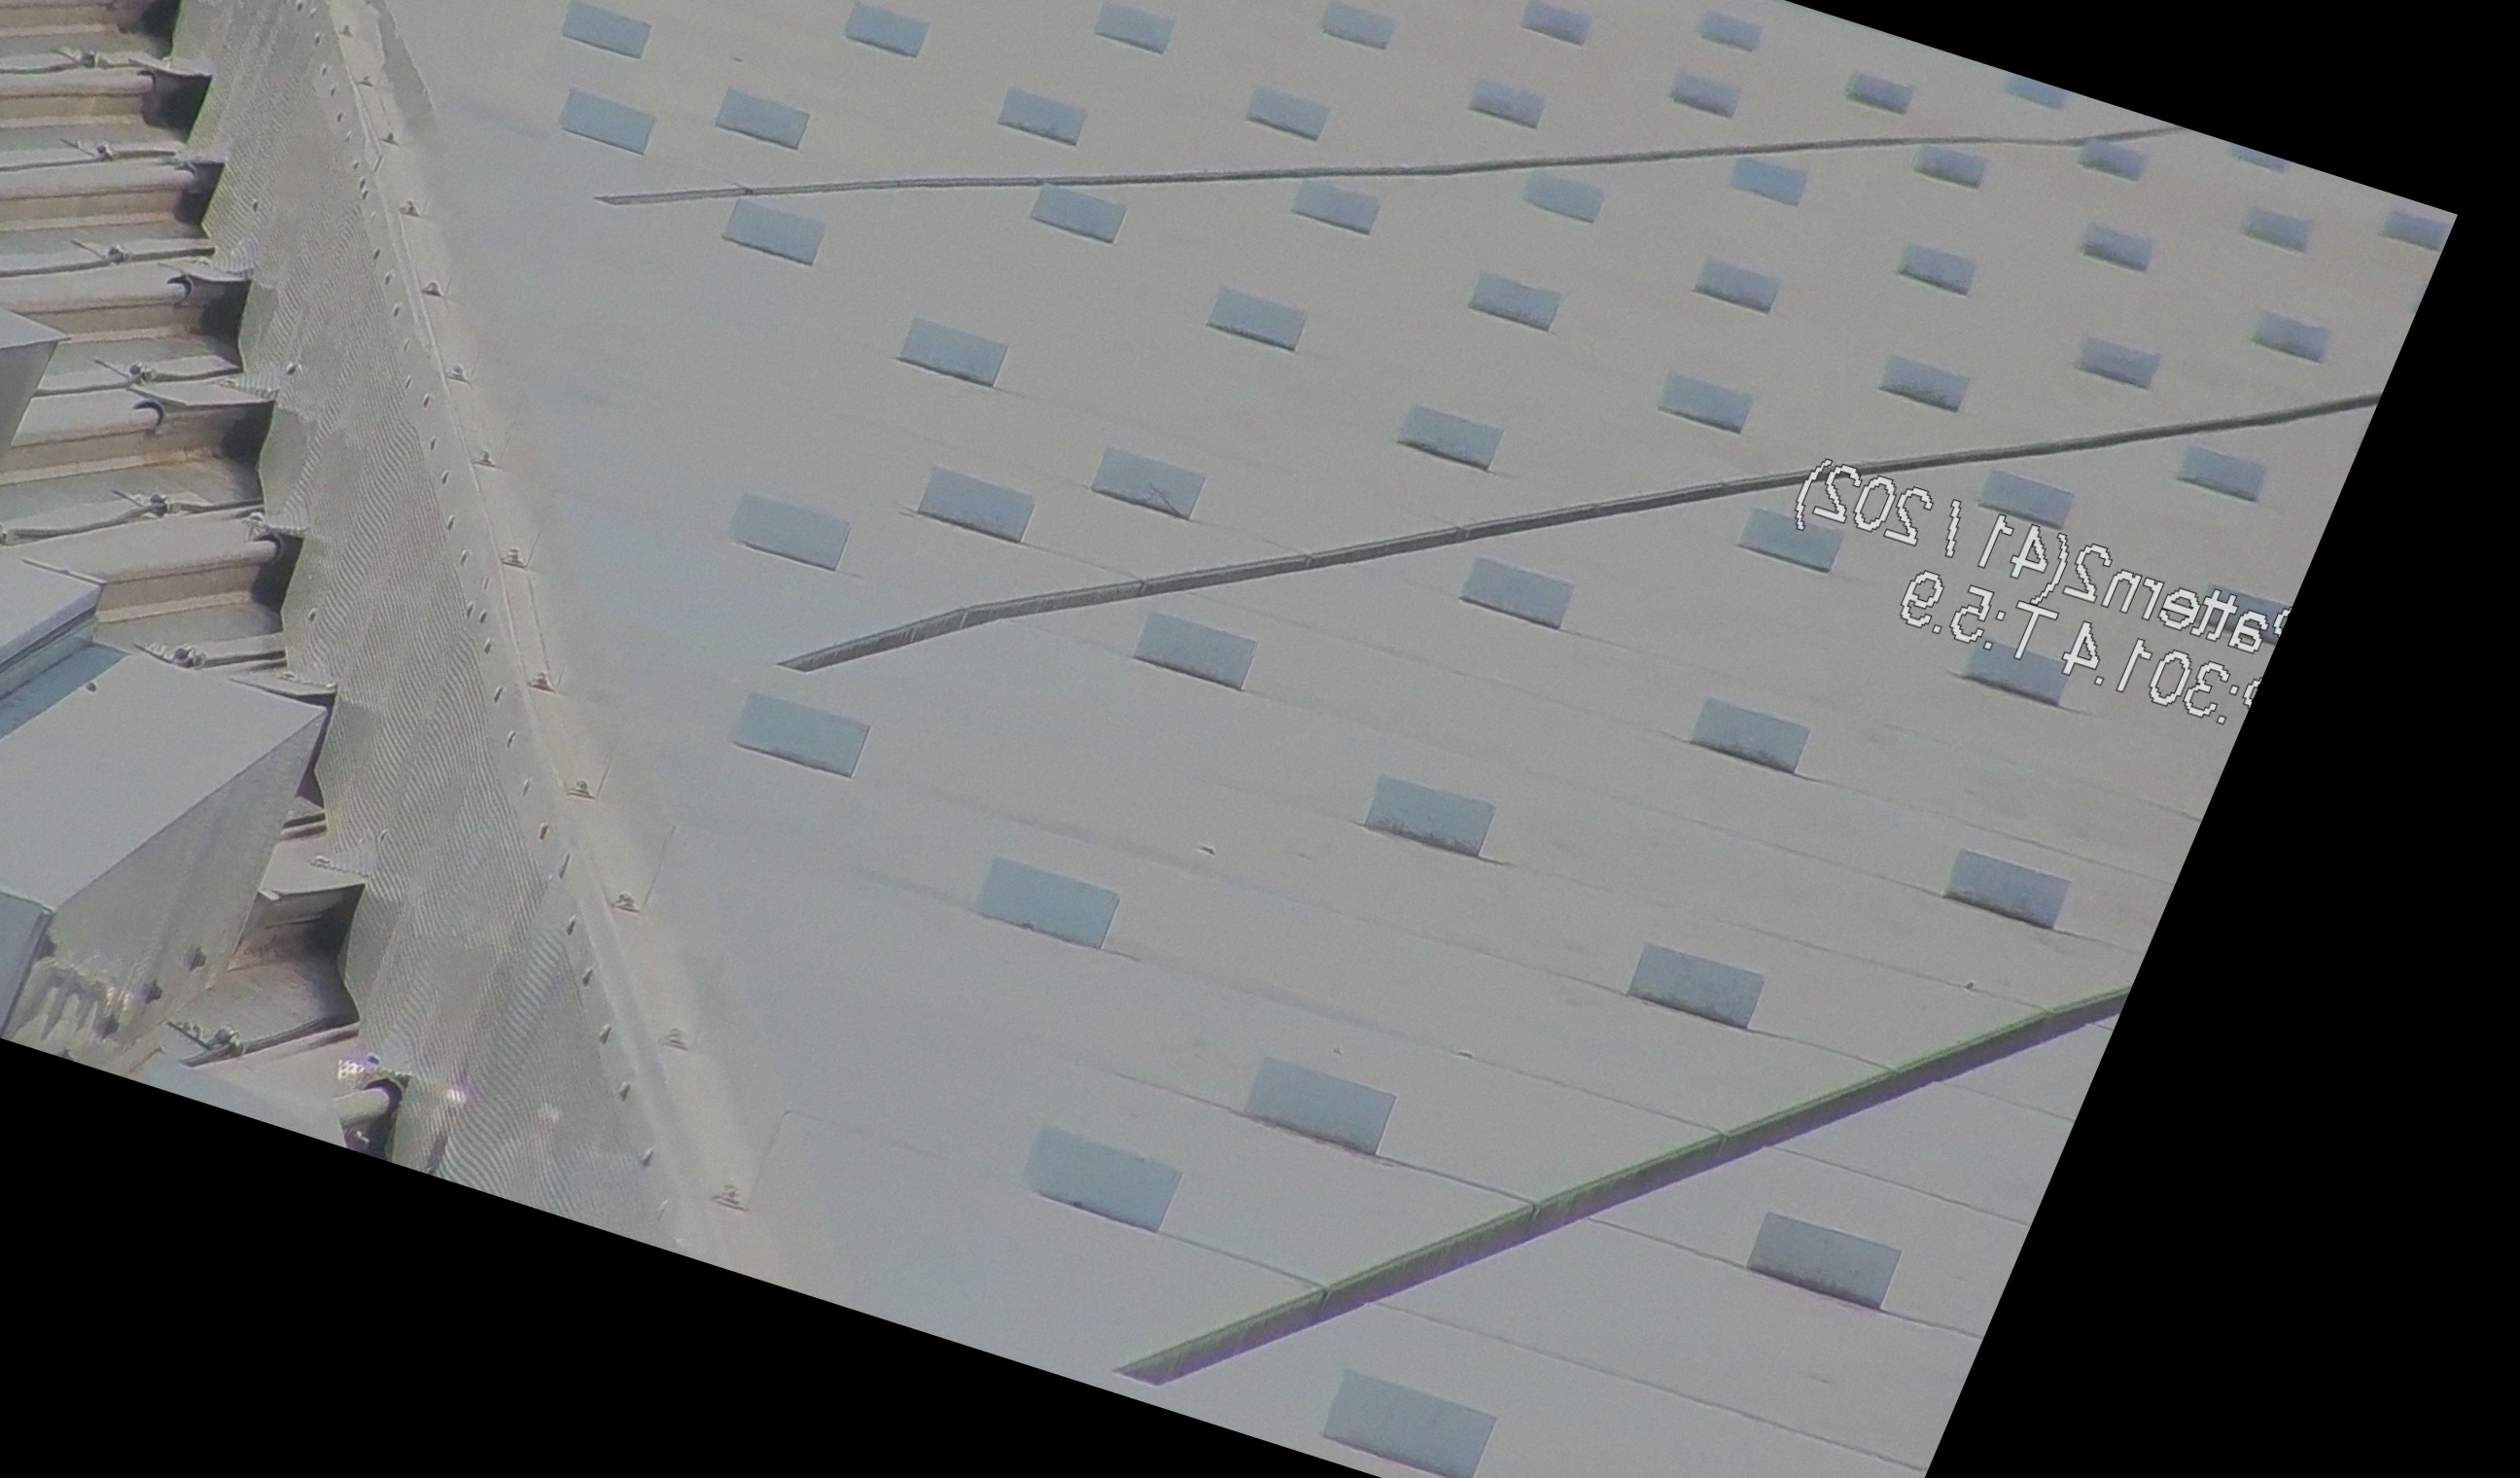Other: (260, 1035, 489, 1281)
